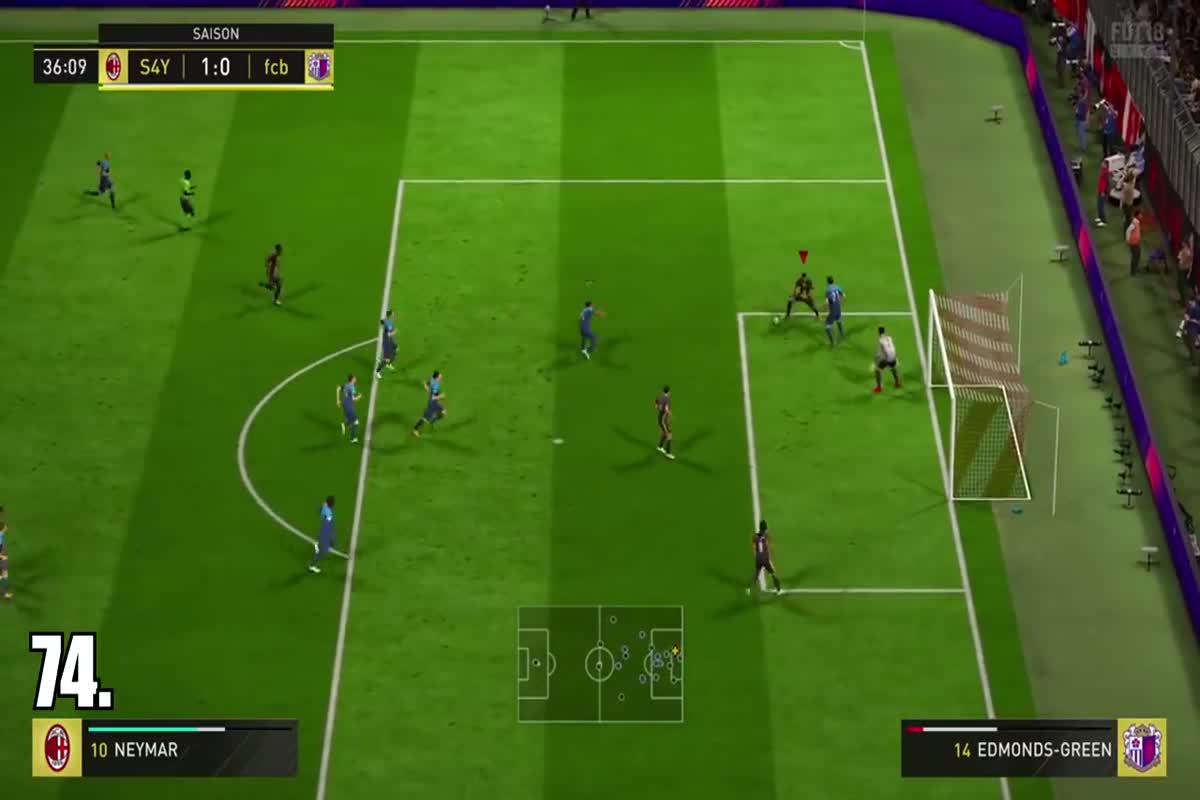ball: (765, 310, 788, 333)
